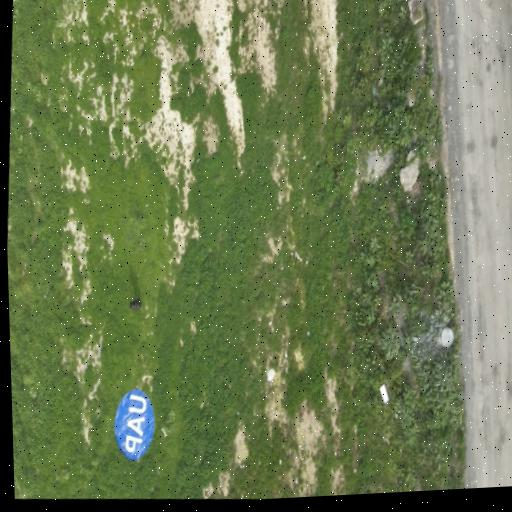person: (129, 298, 140, 310)
uap: (115, 390, 155, 460)
